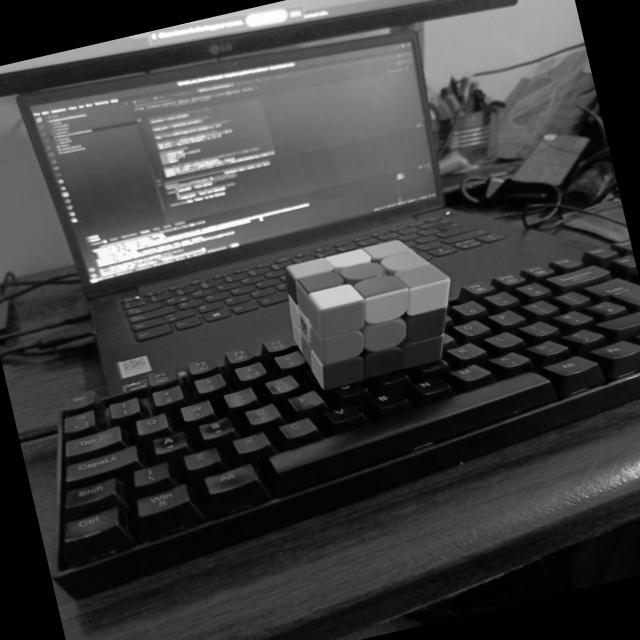rubik: (274, 226, 469, 394)
